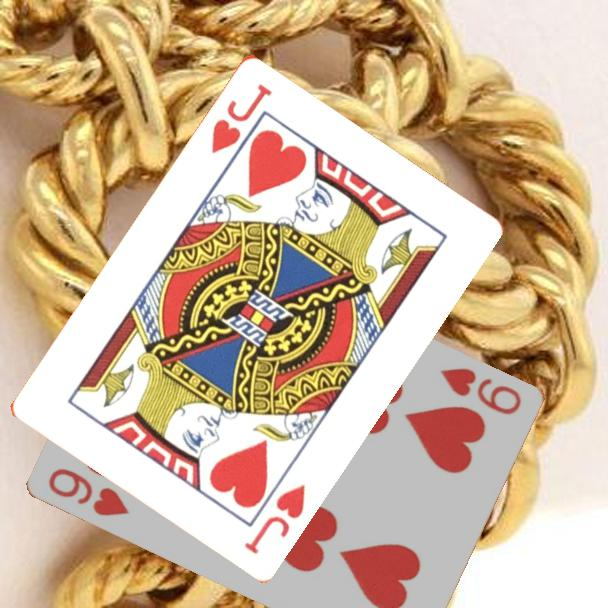h09: (45, 464, 133, 519), (437, 364, 525, 418)
h11: (240, 480, 309, 557), (207, 79, 275, 157)
